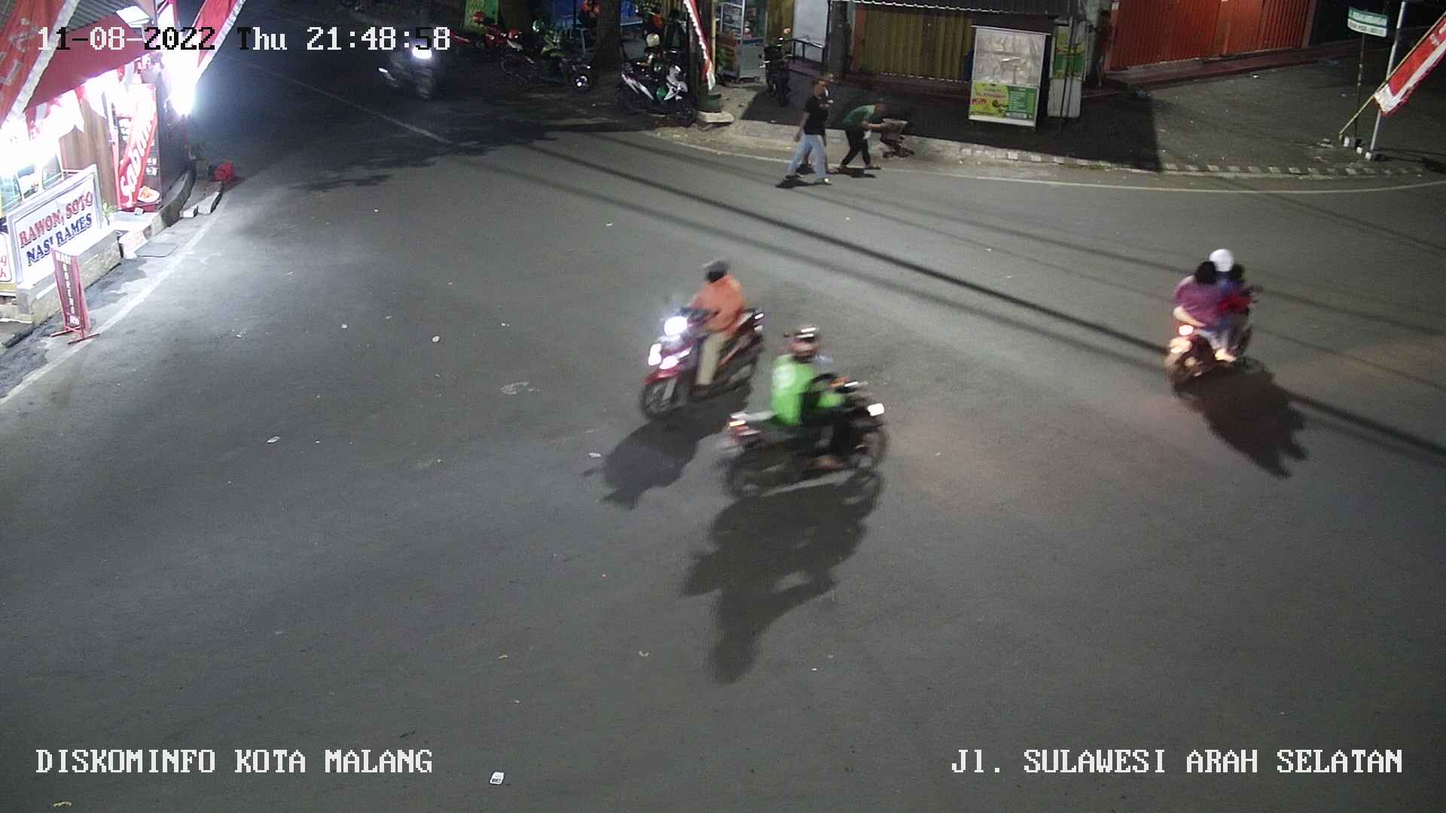with_helmet: (719, 324, 904, 513)
without_helmet: (631, 241, 760, 403), (1169, 242, 1269, 389)
